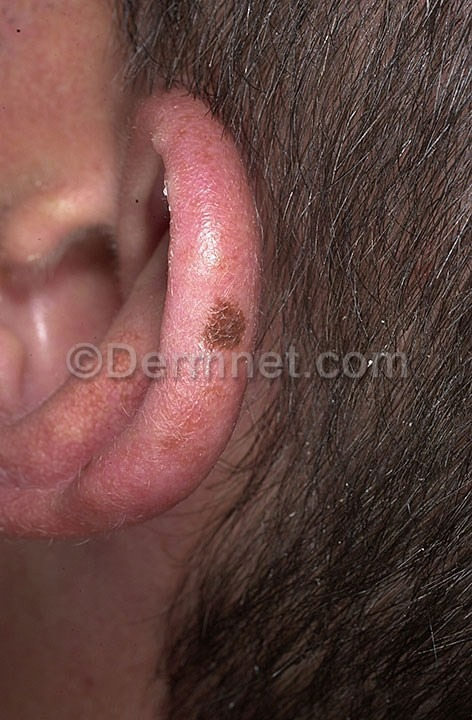Melasma: (214, 191, 274, 569), (132, 54, 278, 161)
